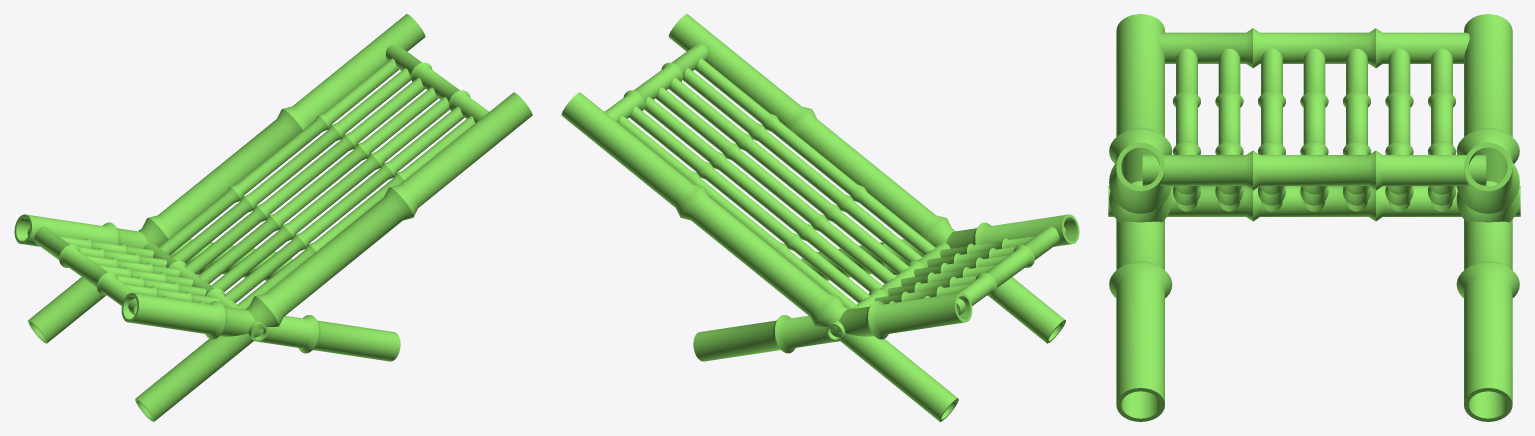
Rendered from BeachChair.fbx.
3 views of the same model, side by side, from view 1: azimuth 30°, elevation 25°; view 2: azimuth 150°, elevation 25°; view 3: azimuth 270°, elevation 25° (orthographic). The views are drawn at different scales.
Visible parts, largest first — view 1: ChairReeds, LongOuterReels, OuterReeds, ChairReeds1, HorizontalReed1, HorizontalReed, HorizontalReed2; view 2: ChairReeds, LongOuterReels, OuterReeds, ChairReeds1, HorizontalReed1, HorizontalReed, HorizontalReed2; view 3: OuterReeds, ChairReeds1, HorizontalReed, HorizontalReed1, LongOuterReels, HorizontalReed2, ChairReeds.
Part boxes in pixels (box(x1,y1,x2,y2)): ChairReeds: box(158, 58, 475, 309); LongOuterReels: box(28, 14, 532, 421); OuterReeds: box(14, 214, 400, 361); ChairReeds1: box(59, 236, 219, 304); HorizontalReed1: box(27, 226, 137, 315); HorizontalReed: box(386, 44, 489, 122); HorizontalReed2: box(143, 243, 267, 341); ChairReeds: box(618, 58, 935, 309); LongOuterReels: box(561, 14, 1065, 421); OuterReeds: box(693, 214, 1079, 361); ChairReeds1: box(874, 236, 1034, 304); HorizontalReed1: box(956, 226, 1066, 315); HorizontalReed: box(604, 44, 707, 122); HorizontalReed2: box(826, 243, 950, 341); OuterReeds: box(1109, 14, 1519, 421); ChairReeds1: box(1173, 48, 1455, 154); HorizontalReed: box(1142, 150, 1486, 190); HorizontalReed1: box(1159, 28, 1469, 68); LongOuterReels: box(1109, 142, 1519, 222); HorizontalReed2: box(1108, 186, 1520, 221); ChairReeds: box(1173, 186, 1455, 211).
Bounding box in the file's own units: 652 × 367 × 356.
